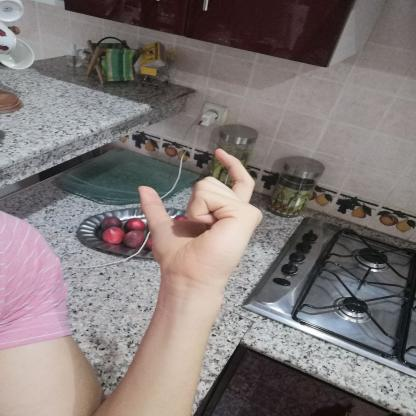NOON: (126, 137, 274, 296)
